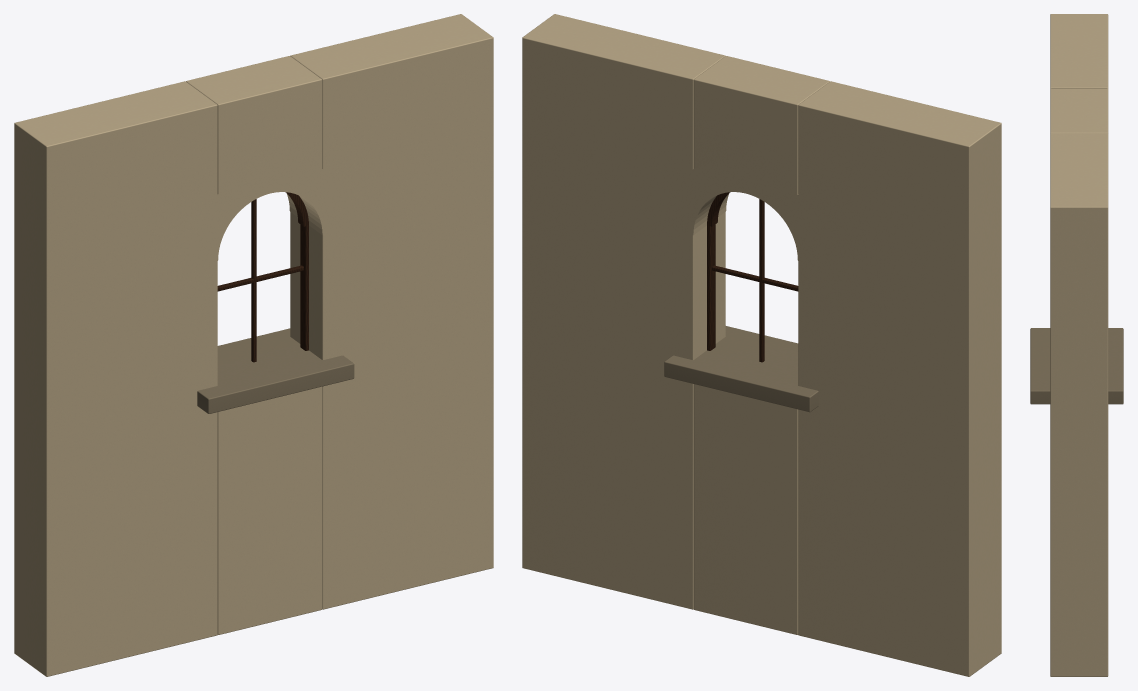
Rendered from window_bay.glb.
3 views of the same model, side by side, from view 1: azimuth 30°, elevation 25°; view 2: azimuth 150°, elevation 25°; view 3: azimuth 270°, elevation 25° (orthographic). The views are drawn at different scales.
Visible parts, largest first — view 1: WallSide, WallSide.001, WallBelow, WallAbove, WindowSill, OpeningArch, WindowFrame.001, Mullion; view 2: WallSide, WallSide.001, WallBelow, WallAbove, WindowSill, OpeningArch, WindowFrame.001, Mullion; view 3: WallSide.001, WallSide, WindowSill, WallAbove.
Part boxes in pixels (x1=…): WallSide: x1=14, y1=81, x2=217, y2=676; WallSide.001: x1=290, y1=14, x2=493, y2=609; WallBelow: x1=217, y1=386, x2=322, y2=634; WallAbove: x1=186, y1=56, x2=322, y2=204; WindowSill: x1=197, y1=328, x2=354, y2=413; OpeningArch: x1=188, y1=160, x2=352, y2=267; WindowFrame.001: x1=300, y1=223, x2=308, y2=350; Mullion: x1=251, y1=199, x2=256, y2=362; WallSide: x1=798, y1=81, x2=1001, y2=676; WallSide.001: x1=522, y1=14, x2=725, y2=609; WallBelow: x1=693, y1=384, x2=798, y2=634; WallAbove: x1=693, y1=56, x2=829, y2=197; WindowSill: x1=664, y1=326, x2=818, y2=412; OpeningArch: x1=663, y1=160, x2=827, y2=267; WindowFrame.001: x1=707, y1=224, x2=715, y2=350; Mullion: x1=759, y1=199, x2=764, y2=362; WallSide.001: x1=1050, y1=133, x2=1108, y2=676; WallSide: x1=1050, y1=14, x2=1108, y2=88; WindowSill: x1=1030, y1=328, x2=1123, y2=404; WallAbove: x1=1050, y1=88, x2=1108, y2=133.
Size of the model in its own units: 3 by 3.4 by 0.61.
Materials: 3 (3 with a texture image).
